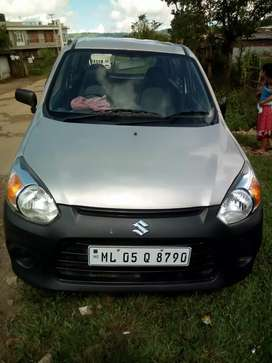ML05Q8790: (89, 247, 189, 265)
